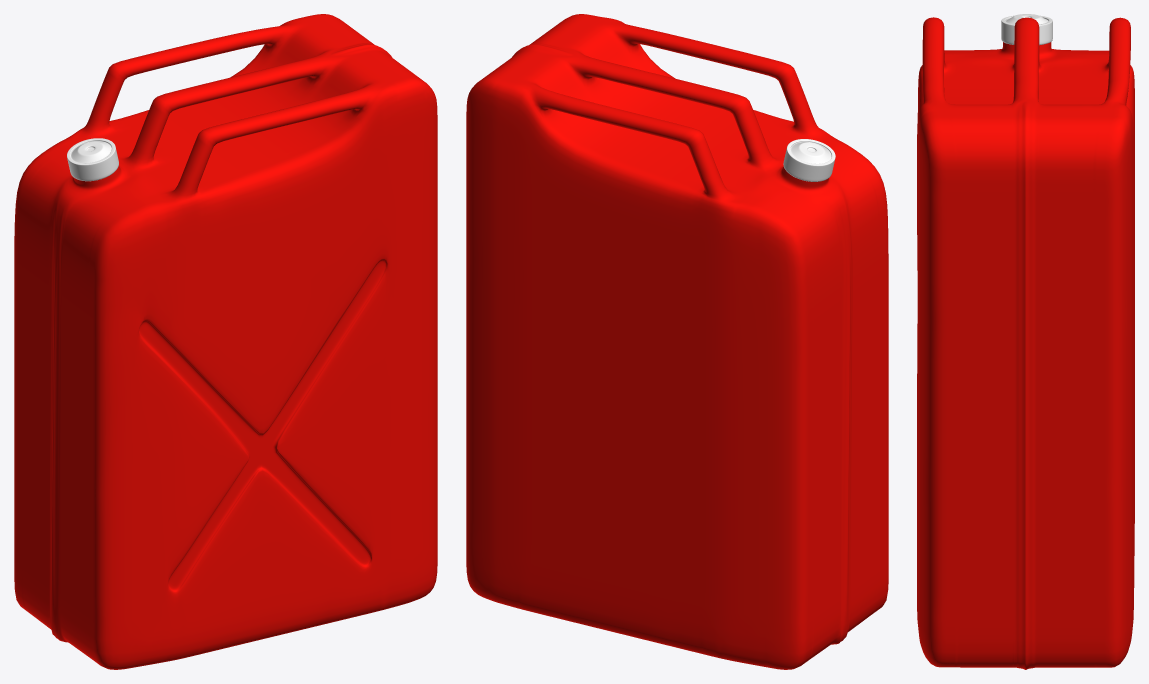
The model's file is fuel_tank.glb.
The picture shows the model from 3 angles, left to right: view 1: azimuth 30°, elevation 25°; view 2: azimuth 150°, elevation 25°; view 3: azimuth 270°, elevation 25°; orthographic projection. The views are drawn at different scales.
Visible parts, largest first — view 1: tank_0; view 2: tank_0; view 3: tank_0.
Part boxes in pixels (x1,y1,x2,y2): tank_0: (14,14,437,669); tank_0: (466,14,888,669); tank_0: (917,14,1134,669).
Bounding box in the file's own units: 0.338 × 0.4943 × 0.179.
